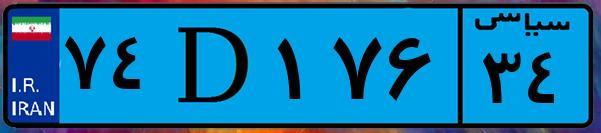1: (270, 28, 330, 110)
3: (475, 38, 525, 113)
4: (525, 38, 570, 115), (110, 28, 158, 98)
6: (385, 28, 445, 110)
7: (330, 28, 385, 110), (57, 26, 110, 100)
D: (158, 12, 270, 120)
